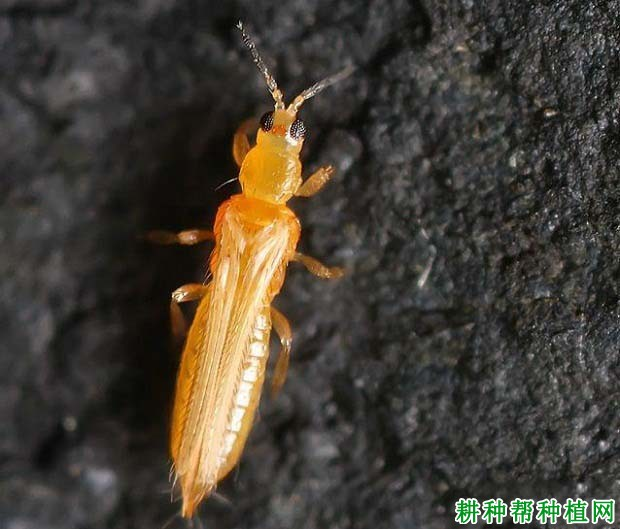Phlaeothripidae: (160, 27, 373, 523)
